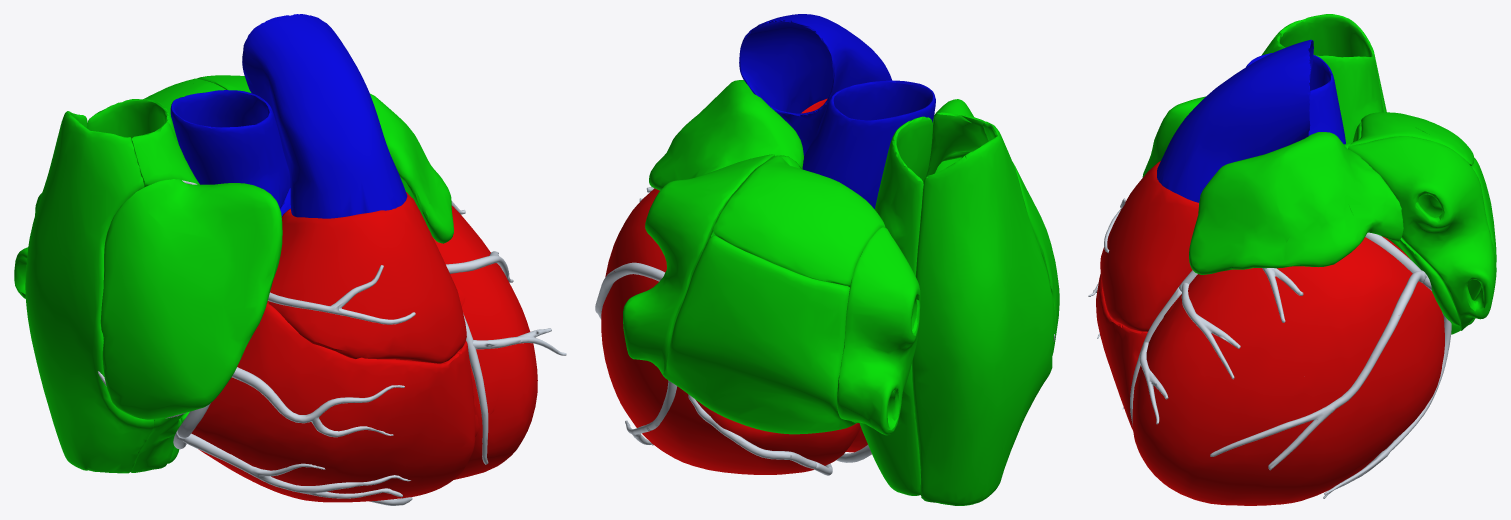
Rendered from heart.glb.
3 views of the same model, side by side, from view 1: azimuth 30°, elevation 25°; view 2: azimuth 150°, elevation 25°; view 3: azimuth 270°, elevation 25° (orthographic). The views are drawn at different scales.
Parts seen in each view (by area): view 1: heart, artery-rca-branches, artery-lad-branches, artery-lad, artery-rca; view 2: heart, artery-lcx-branches, artery-lcx; view 3: heart, artery-lcx-branches, artery-lad-branches, artery-lad, artery-lcx.
Part boxes in pixels (x1,y1,x2,y2): heart: (14,14,537,502); artery-rca-branches: (97,180,415,505); artery-lad-branches: (446,200,566,355); artery-lad: (463,313,488,464); artery-rca: (173,403,210,449); heart: (601,14,1059,505); artery-lcx-branches: (595,262,832,475); artery-lcx: (688,394,816,468); heart: (1096,14,1496,505); artery-lcx-branches: (1210,271,1451,498); artery-lad-branches: (1139,268,1303,424); artery-lad: (1130,270,1197,425); artery-lcx: (1365,232,1431,290).
Size of the model in its own units: 2.83 by 2.9 by 2.62.
